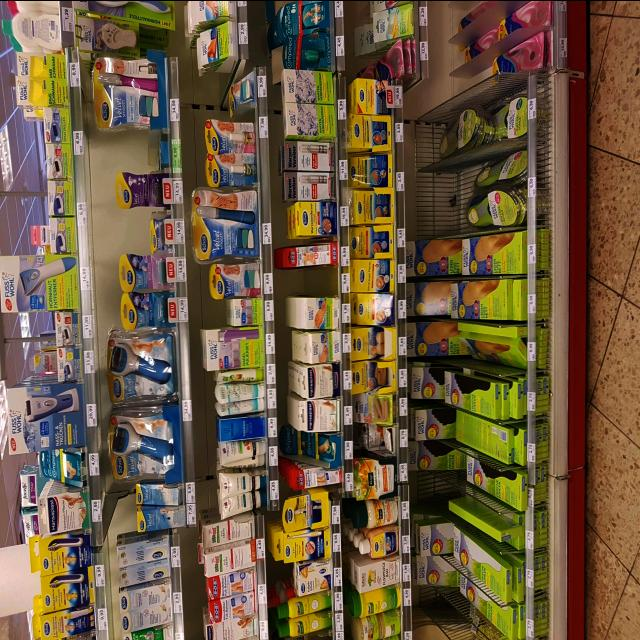empty_space: (98, 129, 162, 171)
